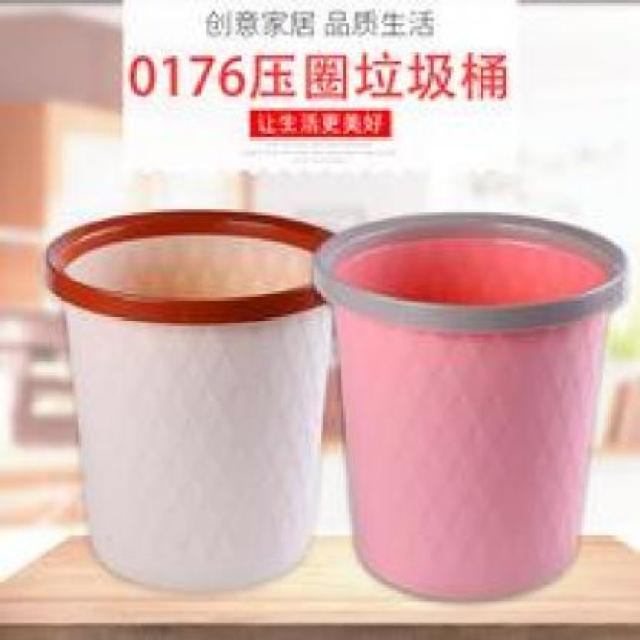dustbin: (308, 206, 636, 607), (38, 205, 346, 599)
